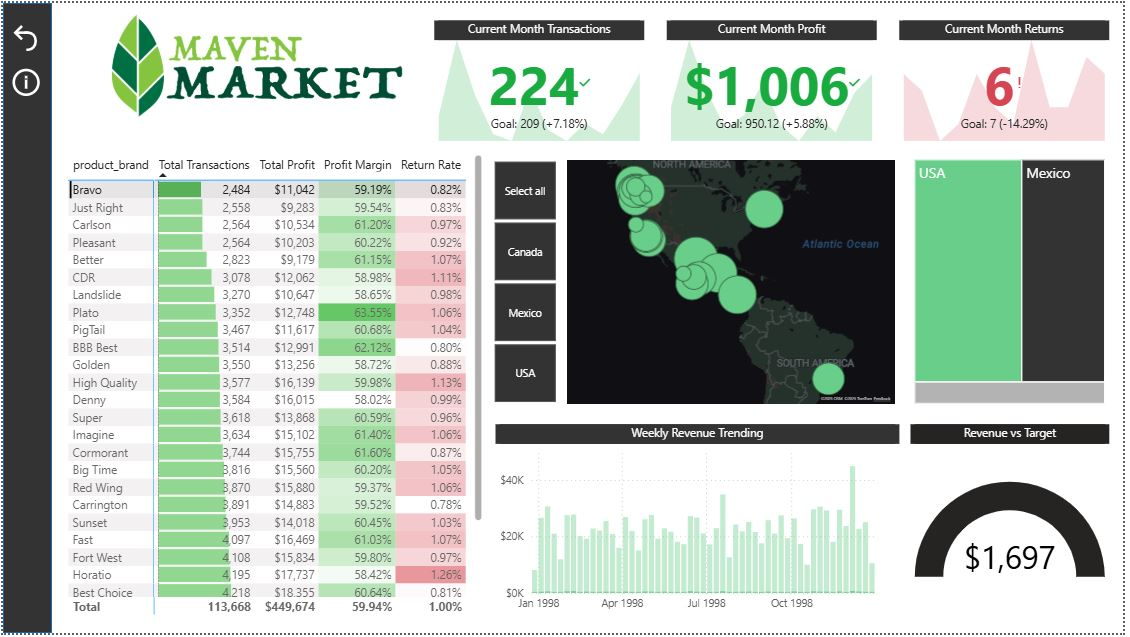

This screenshot's page, from the dashboard's own definition file:
{"tool":"powerbi","page":{"name":"Topline Performance","canvas":[1280,720],"ordinal":0},"visuals":[{"type":"slicer","fields":{"Values":["Stores.store_country"]},"box":[535.7,174.7,120,288.6],"z":0},{"type":"image","box":[94.3,0,388.6,142.9],"z":1000},{"type":"kpi","title":"Current Month Transactions","fields":{"Indicator":["Transactions Data.Total Transactions"],"TrendLine":["Calendar.Start of Month"],"Goal":["Transactions Data.Last Month Transactions"]},"box":[492.9,20,240,142.9],"z":2000},{"type":"pivotTable","fields":{"Values":["Transactions Data.Total Transactions","Transactions Data.Total Profit","Transactions Data.Profit Margin","Returns Data.Return Rate"],"Rows":["Products.product_brand"]},"box":[70,168.6,482.9,535.7],"z":3000},{"type":"kpi","title":"Current Month Profit","fields":{"TrendLine":["Calendar.Start of Month"],"Indicator":["Transactions Data.Total Profit"],"Goal":["Transactions Data.Last Month Profit"]},"box":[758.6,20,240,142.9],"z":4000},{"type":"kpi","title":"Current Month Returns","fields":{"TrendLine":["Calendar.Start of Month"],"Indicator":["Returns Data.Total Returns"],"Goal":["Returns Data.Last Month Returns"]},"box":[1024.3,20,240,142.9],"z":5000},{"type":"azureMap","fields":{"Size":["Transactions Data.Total Transactions"],"Category":["Stores.store_city"]},"box":[640,174.3,384.3,288.6],"z":6000},{"type":"treemap","fields":{"Values":["Transactions Data.Total Transactions"],"Group":["Stores.store_country","Stores.store_city","Stores.store_state"]},"box":[1037.1,174.3,227.1,288.6],"z":7000},{"type":"clusteredColumnChart","title":"Weekly Revenue Trending","fields":{"Y":["Transactions Data.Total Revenue"],"Category":["Calendar.Start of Week"]},"box":[562.9,481.4,461.4,222.9],"z":8000},{"type":"gauge","title":"Revenue vs Target","fields":{"Y":["Transactions Data.Total Revenue"],"MaxValue":["Transactions Data.Revenue Target"]},"box":[1037.1,481.4,227.1,222.9],"z":9000},{"type":"shape","box":[0,0,55.7,720],"z":10000},{"type":"actionButton","box":[6,20,45,40],"z":11000},{"type":"actionButton","box":[5.7,70,44.3,41.4],"z":12000}]}

Visuals, with their boxes on the page's 1280x720 design canvas (x1, y1, x2, y2). These are canvas units, not pixel positions in the 1130x637 screenshot, which may show the page scaled, cropped or inside an application window:
slicer - Stores.store_country: Rect(536, 175, 656, 463)
image: Rect(94, 0, 483, 143)
"Current Month Transactions" kpi: Rect(493, 20, 733, 163)
pivotTable - Transactions Data.Total Transactions x Transactions Data.Total Profit: Rect(70, 169, 553, 704)
"Current Month Profit" kpi: Rect(759, 20, 999, 163)
"Current Month Returns" kpi: Rect(1024, 20, 1264, 163)
azureMap - Transactions Data.Total Transactions x Stores.store_city: Rect(640, 174, 1024, 463)
treemap - Transactions Data.Total Transactions x Stores.store_country: Rect(1037, 174, 1264, 463)
"Weekly Revenue Trending" clusteredColumnChart: Rect(563, 481, 1024, 704)
"Revenue vs Target" gauge: Rect(1037, 481, 1264, 704)
shape: Rect(0, 0, 56, 720)
actionButton: Rect(6, 20, 51, 60)
actionButton: Rect(6, 70, 50, 111)
